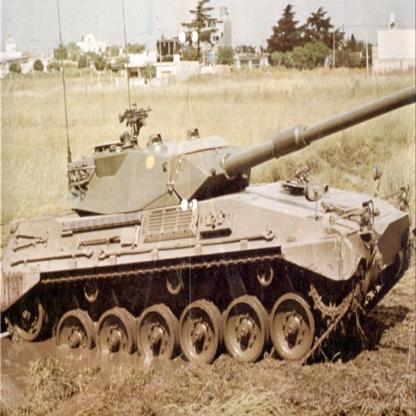Tank: (5, 81, 416, 375)
